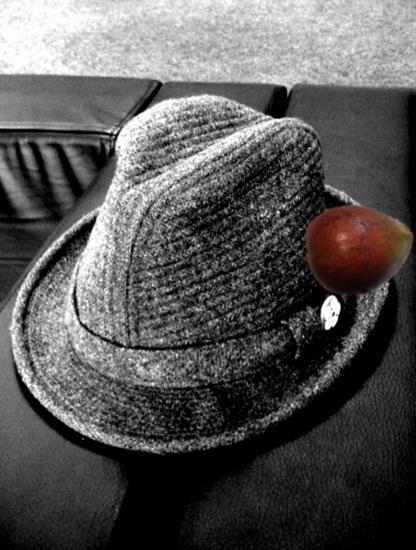Mango: (300, 190, 416, 306)
